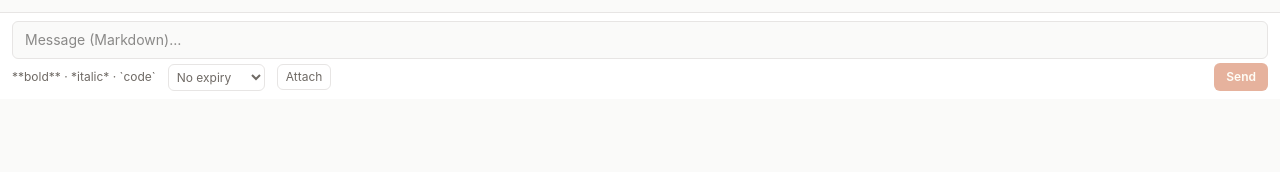
Test: ChatInput slash popup (issue #99 Phase 3) › opens on a bare "/" listing every command with listbox semantics
The image size is (1280, 172).
Type "/" into the dropdown named "Write a message" at (640, 40), box [12,21,1268,59]
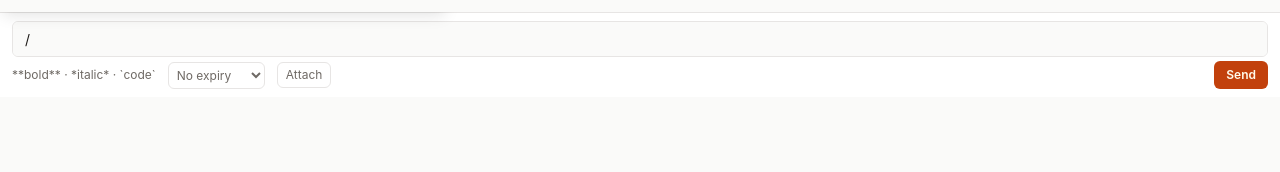
Expected: the dropdown named "Write a message" is expanded, [12,21,1268,57]
